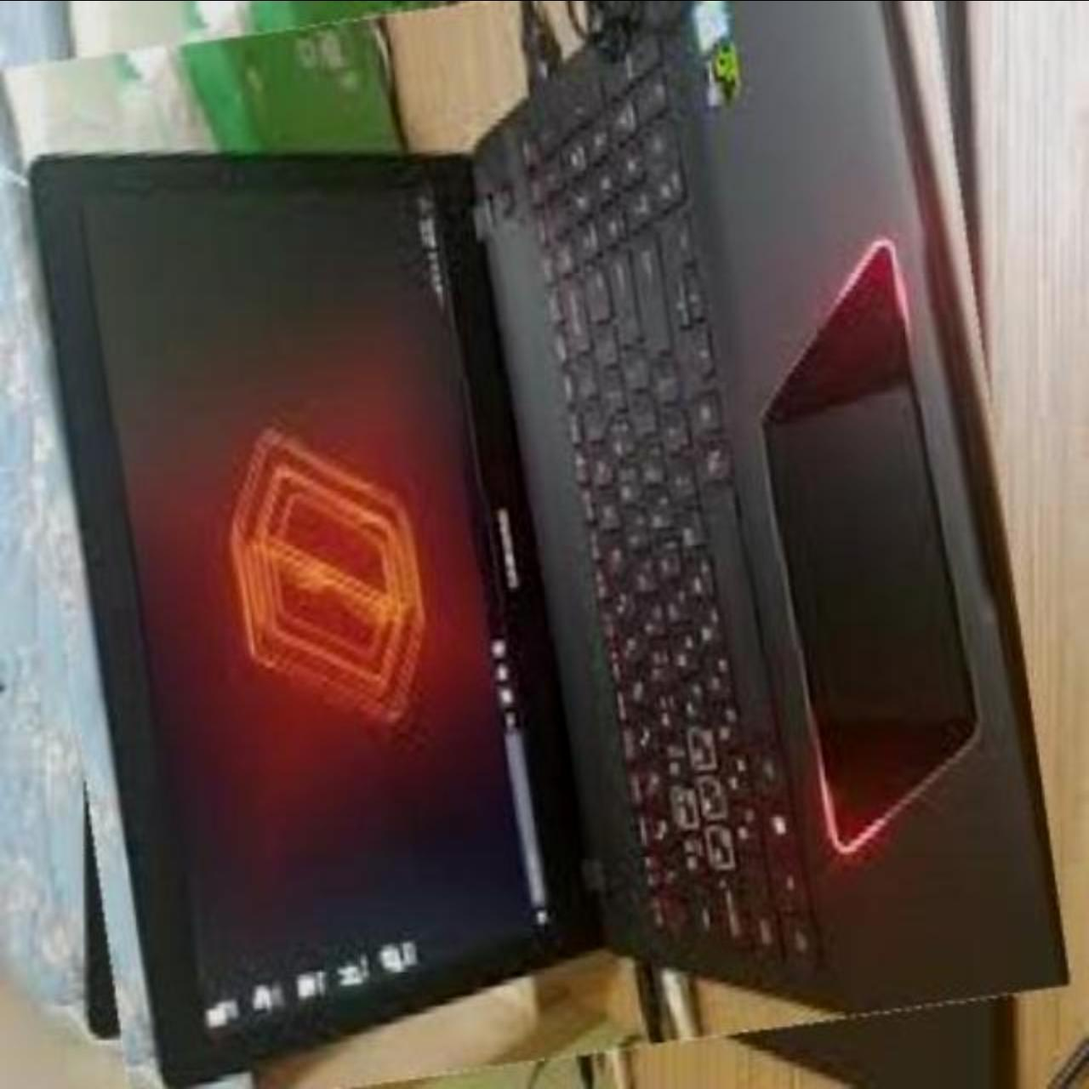laptop: (20, 0, 1035, 1086)
